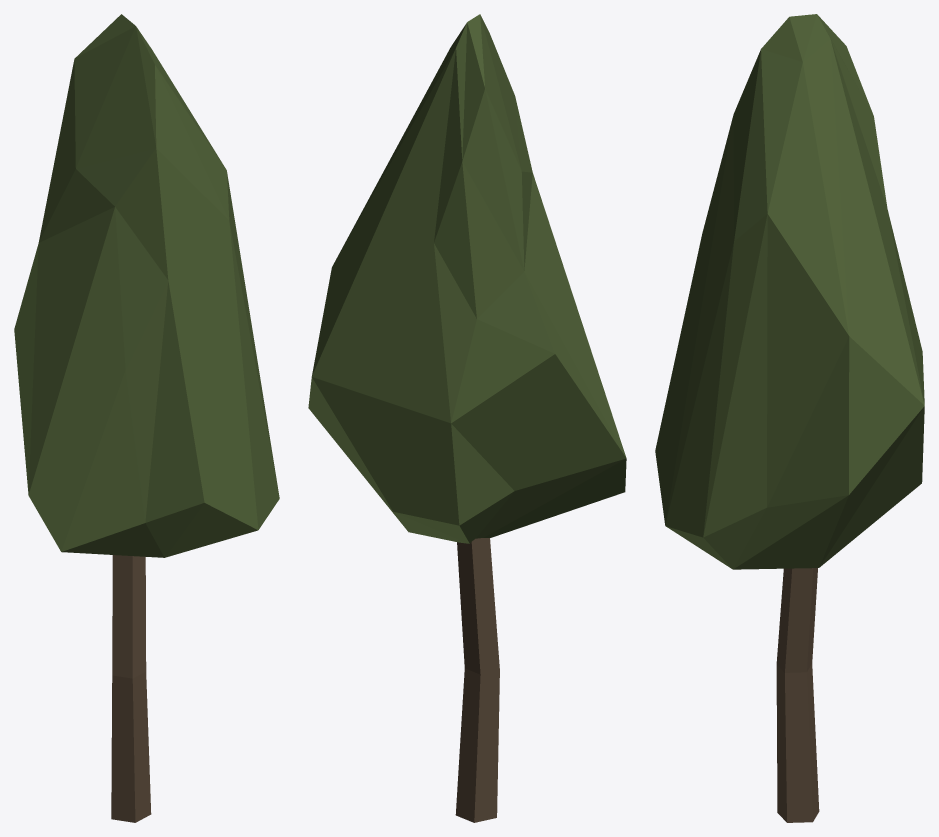
Rendered from tree_041.fbx.
The picture shows the model from 3 angles, left to right: view 1: azimuth 30°, elevation 25°; view 2: azimuth 150°, elevation 25°; view 3: azimuth 270°, elevation 25°; orthographic projection.
Parts seen in each view (by area): view 1: tree_041; view 2: tree_041; view 3: tree_041.
Part boxes in pixels (x1,y1,x2,y2): tree_041: (14,14,279,822); tree_041: (308,14,626,822); tree_041: (655,14,924,822).
Size of the model in its own units: 0.3834 by 1.09 by 0.3308.
Materials: 1 (1 with a texture image).
